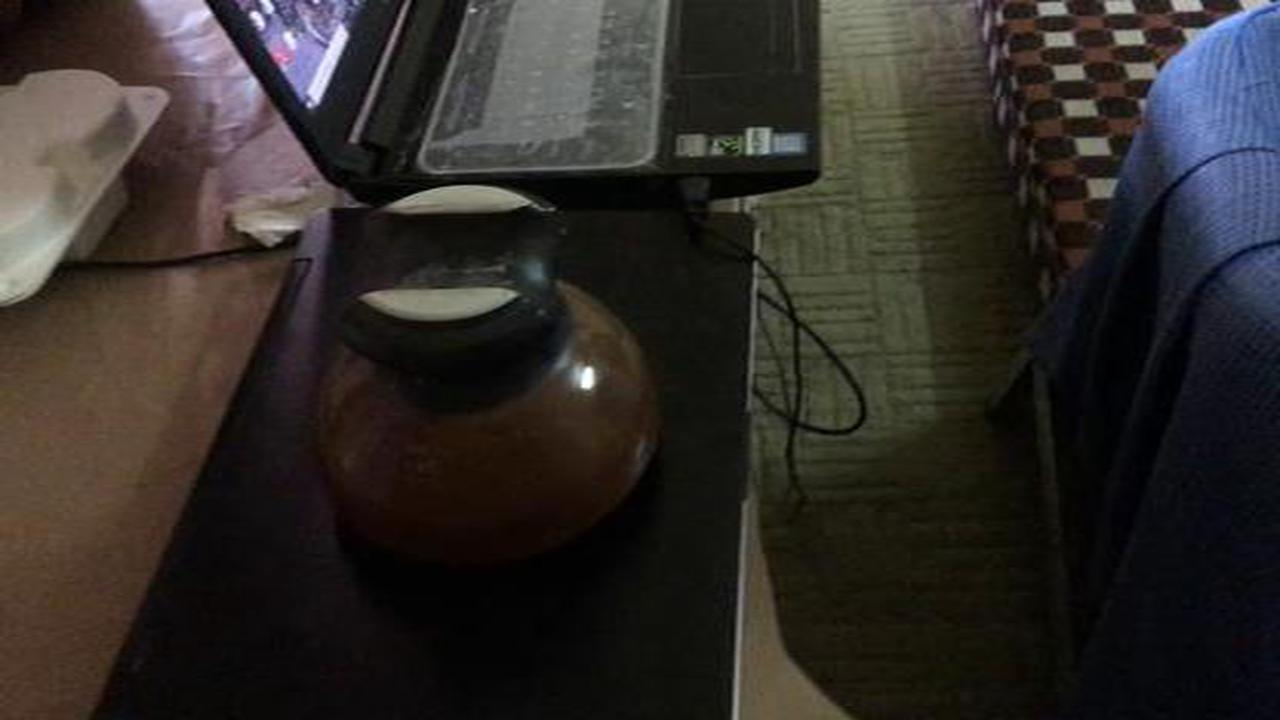insulator_pin: (290, 174, 684, 584)
